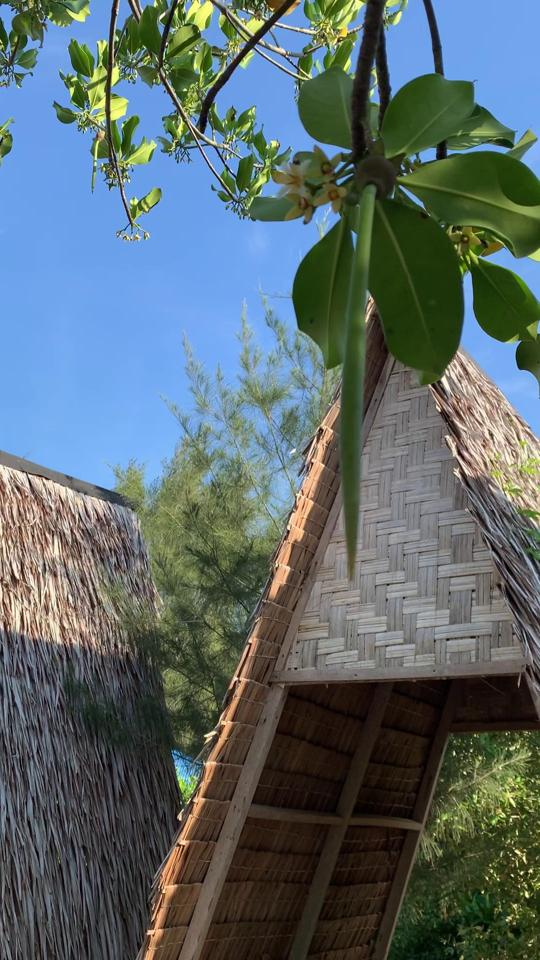mentah: (320, 132, 405, 596)
